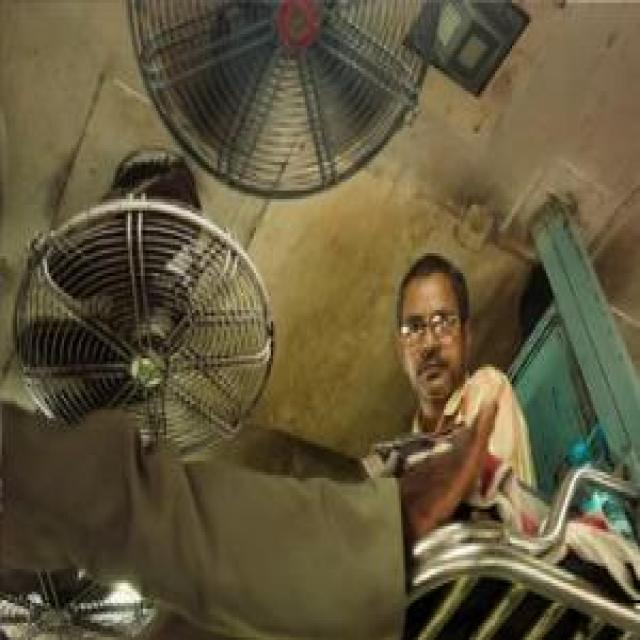Fan: (0, 162, 295, 490), (109, 0, 476, 225)
